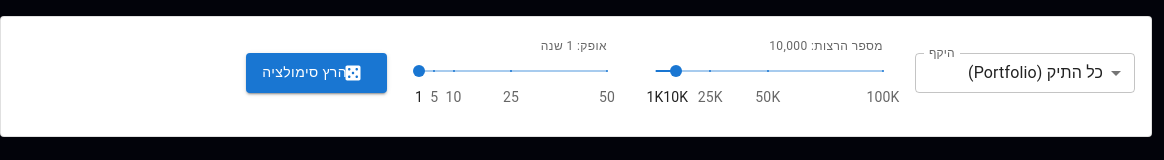
Test: Simulation › disables the run button and shows a spinner label while fetching
Click the button "הרץ סימולציה". click: (317, 73)
box: [246,53,387,93]
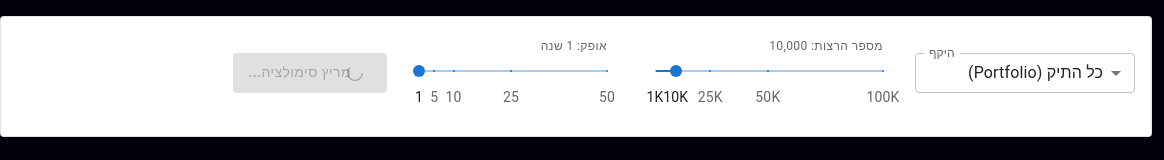
Expected: the button "מריץ סימולציה..." is disabled, [232,53,387,93]
